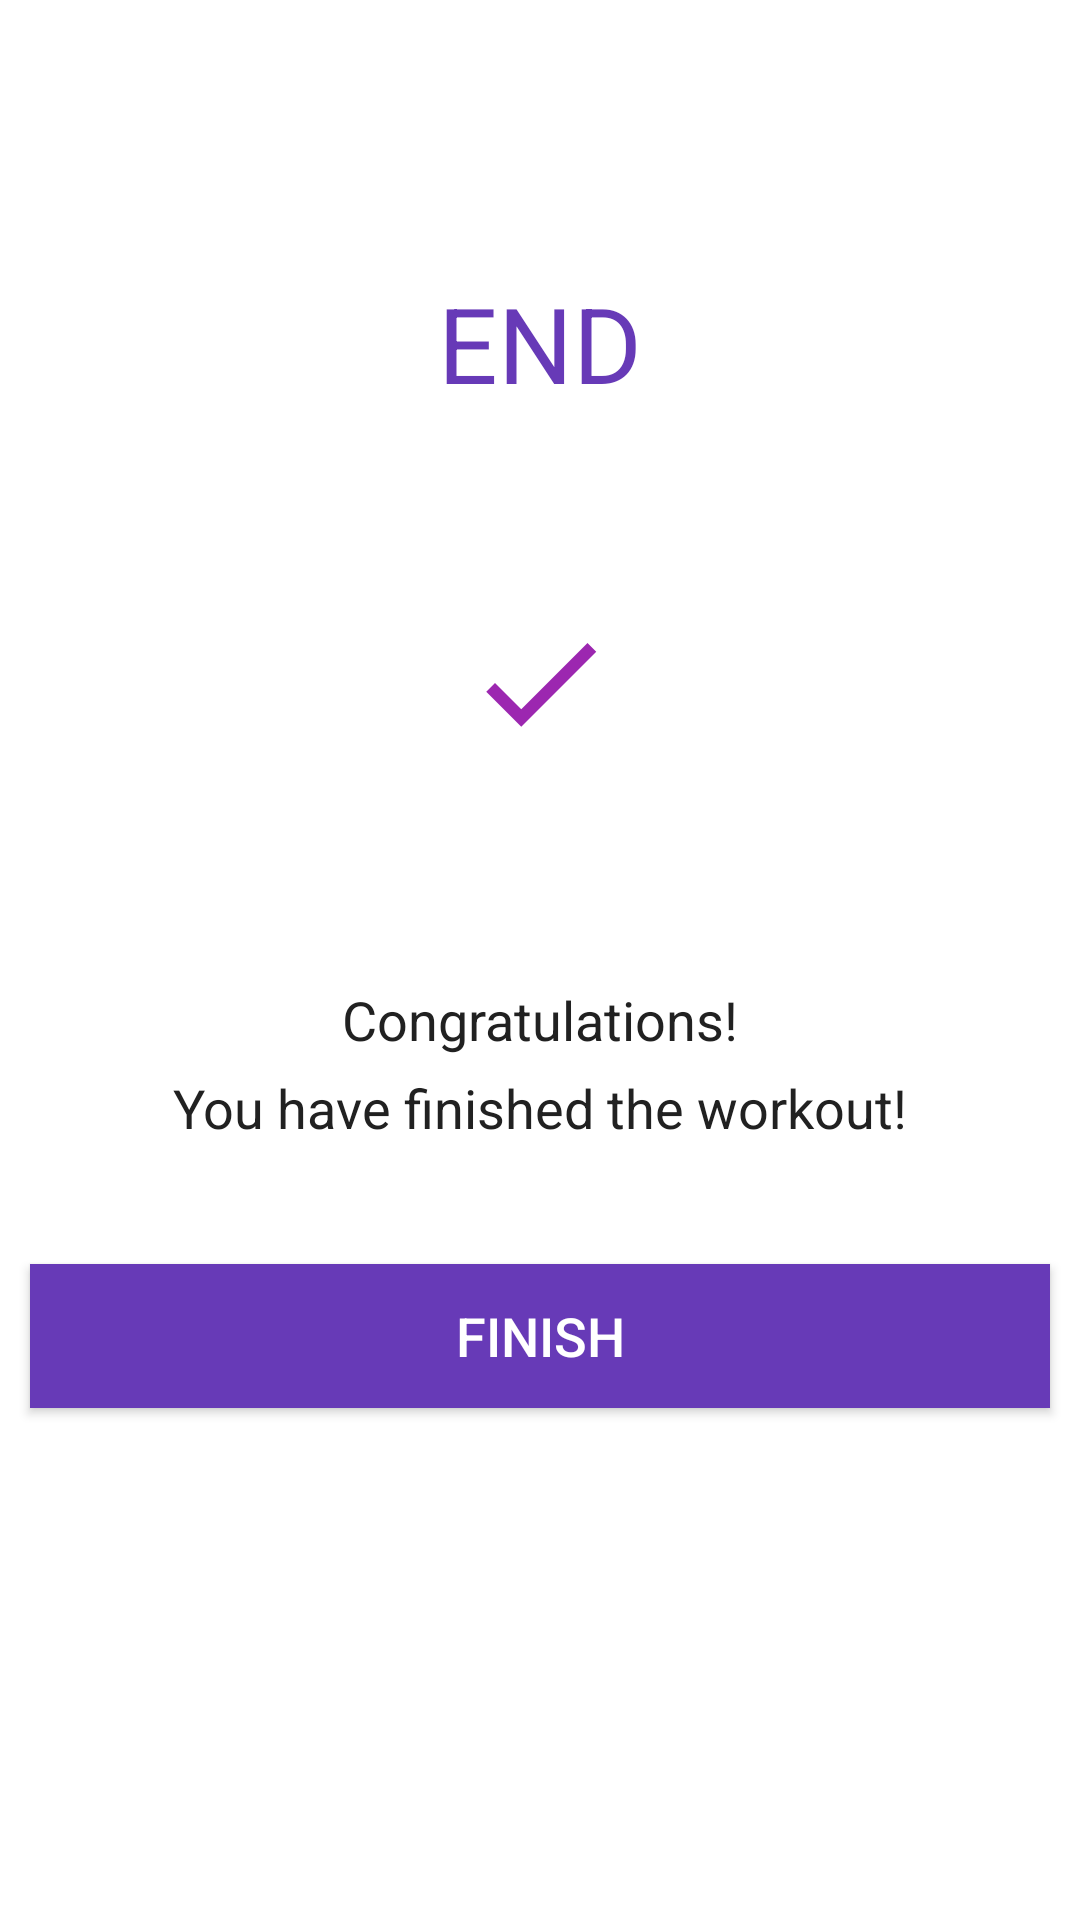

Where to tap for icons on this 1080w x 1920h app screen, as (x,y):
done image: (541,685)
